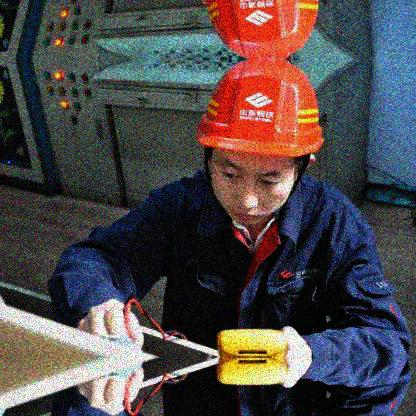helmet: (195, 59, 327, 227)
